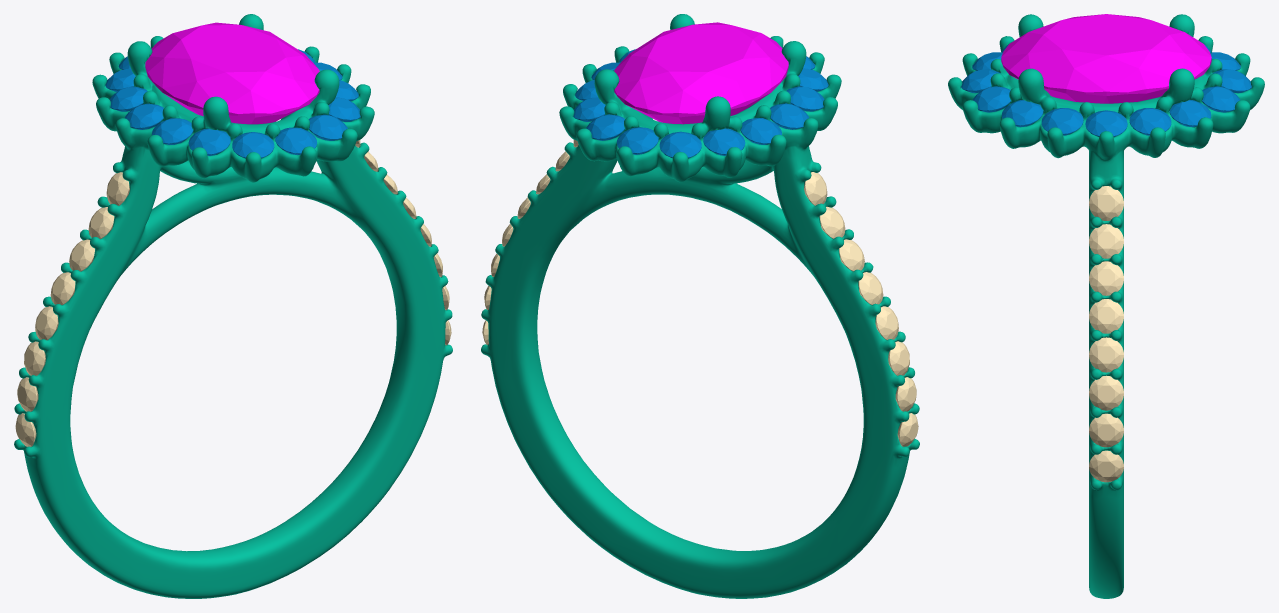
Rendered from BE1D1416_OV_200ct_RENDER.glb.
3 renders of one model, left to right at view 1: azimuth 30°, elevation 25°; view 2: azimuth 150°, elevation 25°; view 3: azimuth 270°, elevation 25°, orthographic.
Visible parts, largest first — view 1: Metal 01, CS_Diamond_Oval, Diamond_Round_Gem_HD.014, Diamond_Round_Gem_HD.015, Diamond_Round_Gem_HD.013, Diamond_Round_Gem_HD.012, Diamond_Round_Gem_HD.011, Diamond_Round_Gem_HD, Diamond_Round_Gem_HD.010, Diamond_Round_Gem_SH.006, Diamond_Round_Gem_SH.007, Diamond_Round_Gem_SH.005 (+4 smaller); view 2: Metal 01, CS_Diamond_Oval, Diamond_Round_Gem_HD.008, Diamond_Round_Gem_HD.007, Diamond_Round_Gem_HD.009, Diamond_Round_Gem_HD.010, Diamond_Round_Gem_HD.011, Diamond_Round_Gem_HD.006, Diamond_Round_Gem_HD.012, Diamond_Round_Gem_SH.006, Diamond_Round_Gem_SH.007, Diamond_Round_Gem_SH.005 (+4 smaller); view 3: Metal 01, CS_Diamond_Oval, Diamond_Round_Gem_SH.013, Diamond_Round_Gem_SH.014, Diamond_Round_Gem_SH.012, Diamond_Round_Gem_SH.008, Diamond_Round_Gem_SH.015, Diamond_Round_Gem_SH.009, Diamond_Round_Gem_SH.011, Diamond_Round_Gem_SH.010, Diamond_Round_Gem_HD.003, Diamond_Round_Gem_HD.002 (+7 smaller).
Boxes of the visible parts, x1,y1,x2,y2 form: Metal 01: (14, 14, 452, 598); CS_Diamond_Oval: (145, 22, 319, 124); Diamond_Round_Gem_HD.014: (232, 132, 274, 158); Diamond_Round_Gem_HD.015: (275, 127, 317, 154); Diamond_Round_Gem_HD.013: (188, 128, 230, 155); Diamond_Round_Gem_HD.012: (152, 118, 193, 144); Diamond_Round_Gem_HD.011: (125, 103, 163, 129); Diamond_Round_Gem_HD: (309, 114, 347, 140); Diamond_Round_Gem_HD.010: (109, 86, 147, 111); Diamond_Round_Gem_SH.006: (50, 272, 75, 304); Diamond_Round_Gem_SH.007: (69, 239, 94, 271); Diamond_Round_Gem_SH.005: (35, 306, 58, 340); Metal 01: (481, 14, 919, 598); CS_Diamond_Oval: (614, 22, 788, 124); Diamond_Round_Gem_HD.008: (659, 131, 701, 158); Diamond_Round_Gem_HD.007: (616, 127, 658, 154); Diamond_Round_Gem_HD.009: (703, 128, 745, 155); Diamond_Round_Gem_HD.010: (740, 118, 781, 144); Diamond_Round_Gem_HD.011: (770, 103, 808, 129); Diamond_Round_Gem_HD.006: (586, 114, 624, 140); Diamond_Round_Gem_HD.012: (786, 86, 824, 111); Diamond_Round_Gem_SH.006: (858, 272, 883, 304); Diamond_Round_Gem_SH.007: (839, 239, 864, 271); Diamond_Round_Gem_SH.005: (875, 306, 898, 339); Metal 01: (948, 14, 1264, 598); CS_Diamond_Oval: (1001, 14, 1211, 103); Diamond_Round_Gem_SH.013: (1089, 337, 1123, 372); Diamond_Round_Gem_SH.014: (1089, 299, 1123, 333); Diamond_Round_Gem_SH.012: (1089, 375, 1123, 410); Diamond_Round_Gem_SH.008: (1089, 186, 1123, 220); Diamond_Round_Gem_SH.015: (1089, 261, 1123, 295); Diamond_Round_Gem_SH.009: (1089, 224, 1123, 258); Diamond_Round_Gem_SH.011: (1089, 413, 1123, 447); Diamond_Round_Gem_SH.010: (1089, 450, 1123, 482); Diamond_Round_Gem_HD.003: (1085, 110, 1127, 136); Diamond_Round_Gem_HD.002: (1041, 108, 1083, 135).
Size of the model in its own units: 21.05 by 25.57 by 13.55.
